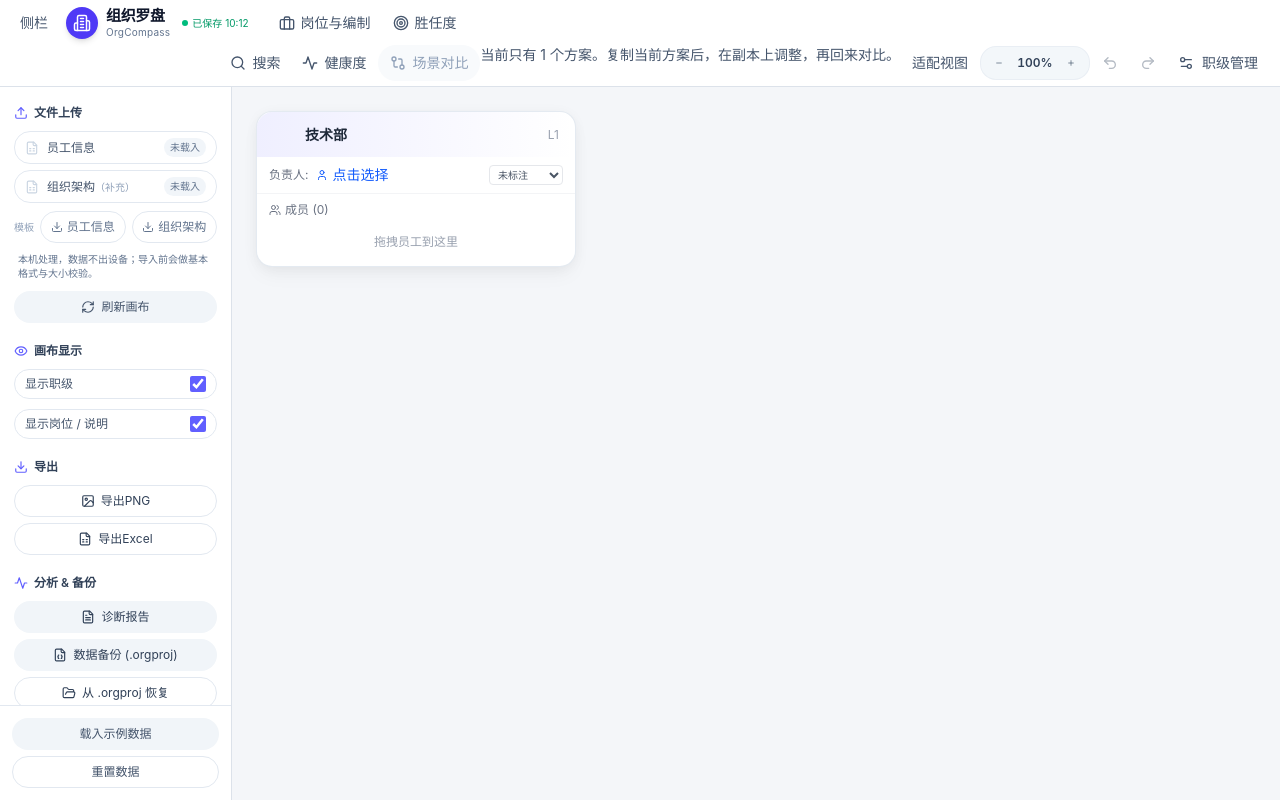
Test case: V2.4.0「载入示例数据」= 模板选择器（原「行业模板」并入此处） › 取消选择不产生任何导入（选择器可安全打开）
The image size is (1280, 800).
What coordinates should you click on to do the following:
click the button "载入示例数据"
I would click on:
 (116, 734)
Its box is [12,718,219,750].
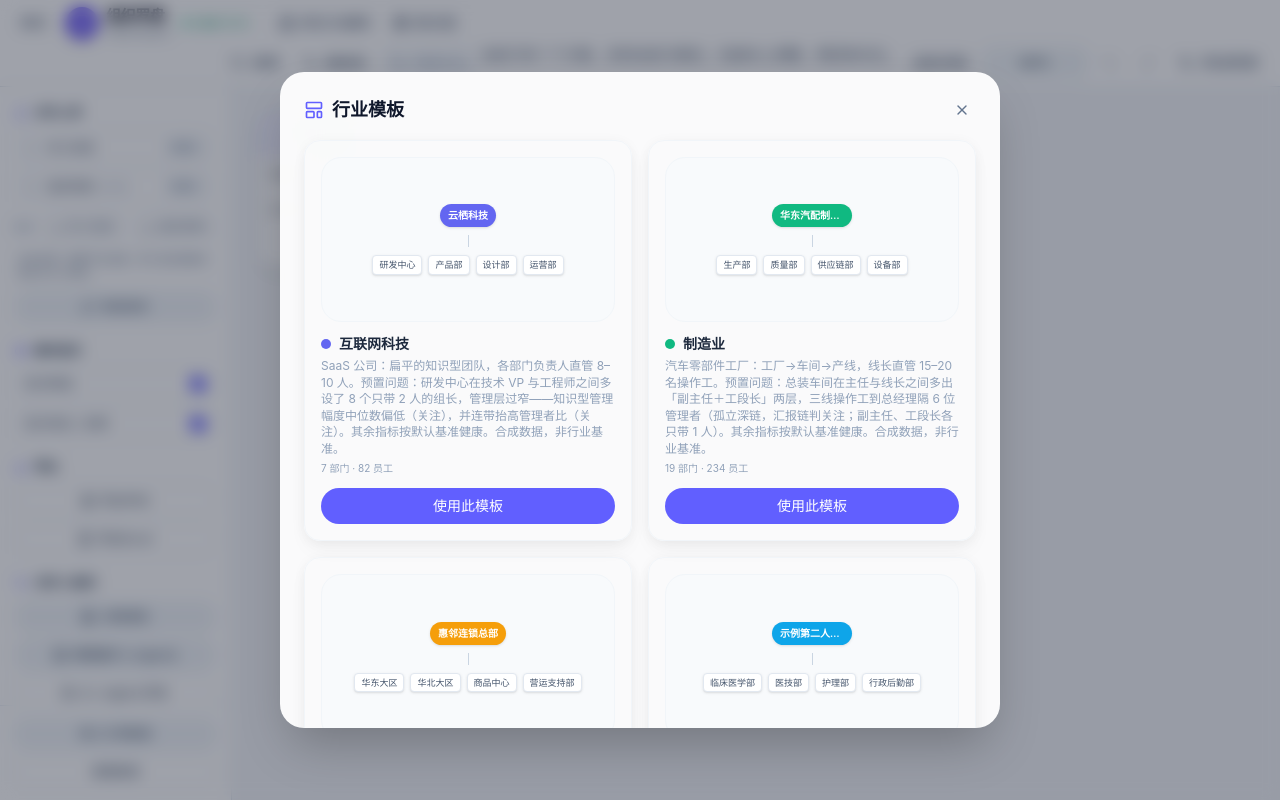
What coordinates should you click on to do the following:
click the button named "关闭"
I would click on:
 (962, 110)
Its box is [948,96,976,124].
Wait 900 ms
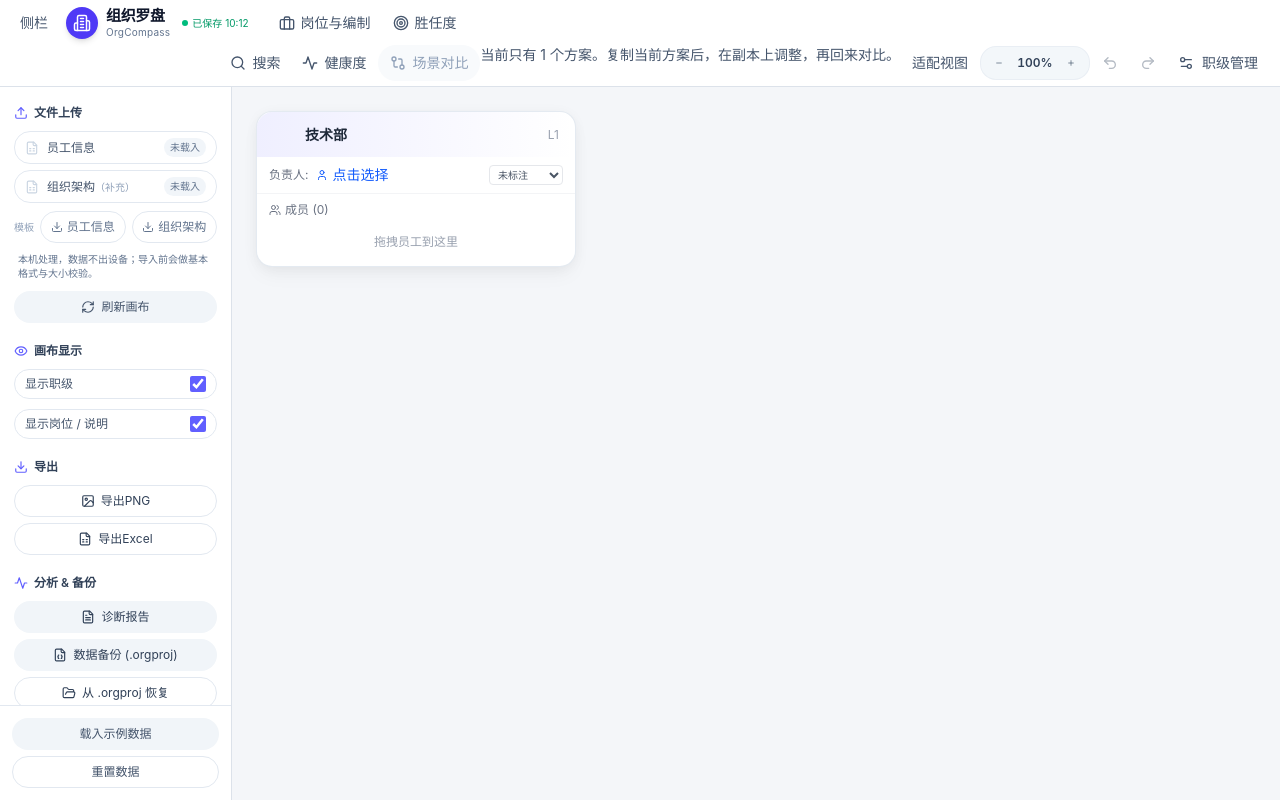
expect the heading "行业模板" is gone: met
